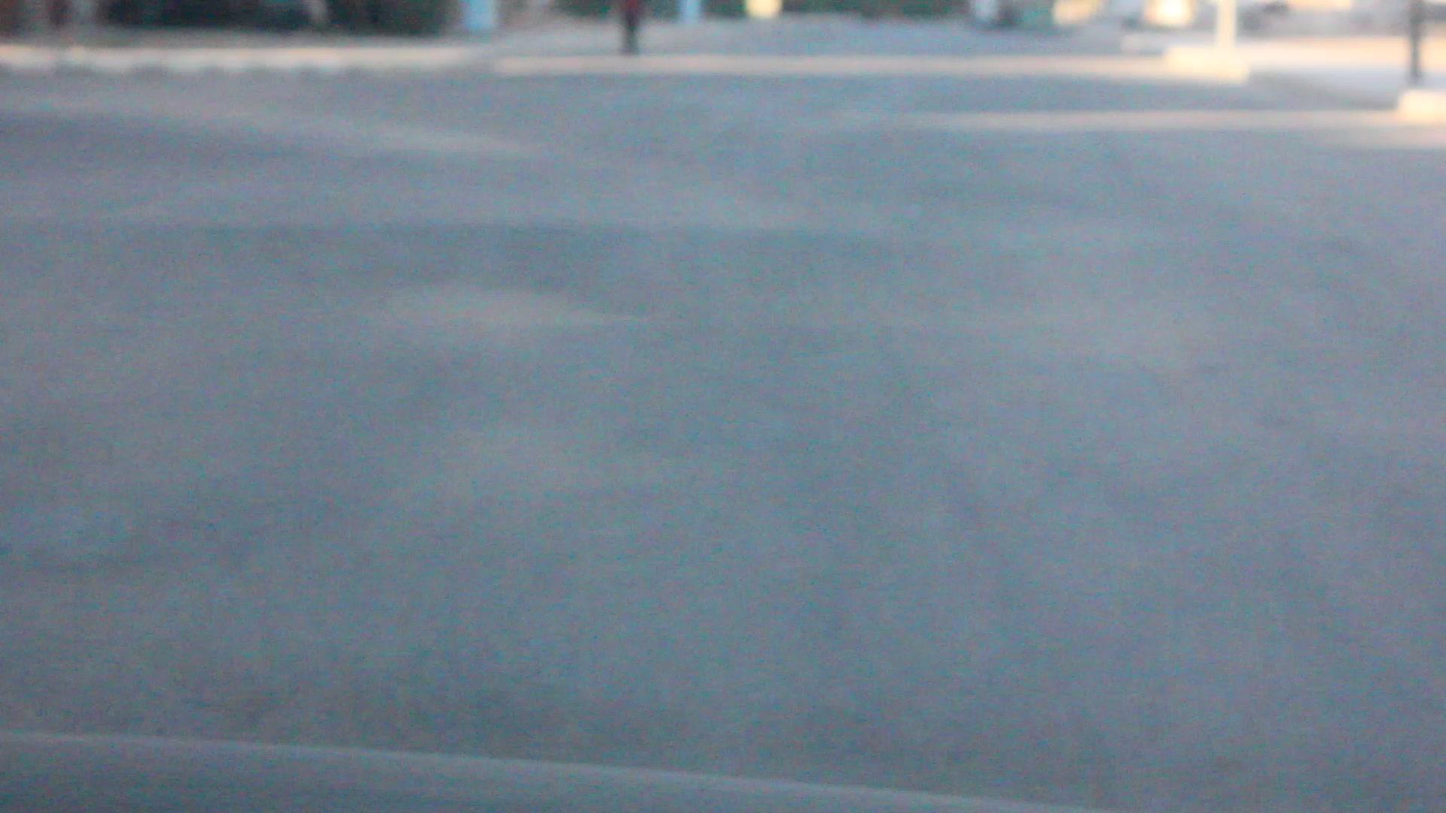Bump: (6, 218, 1446, 354)
